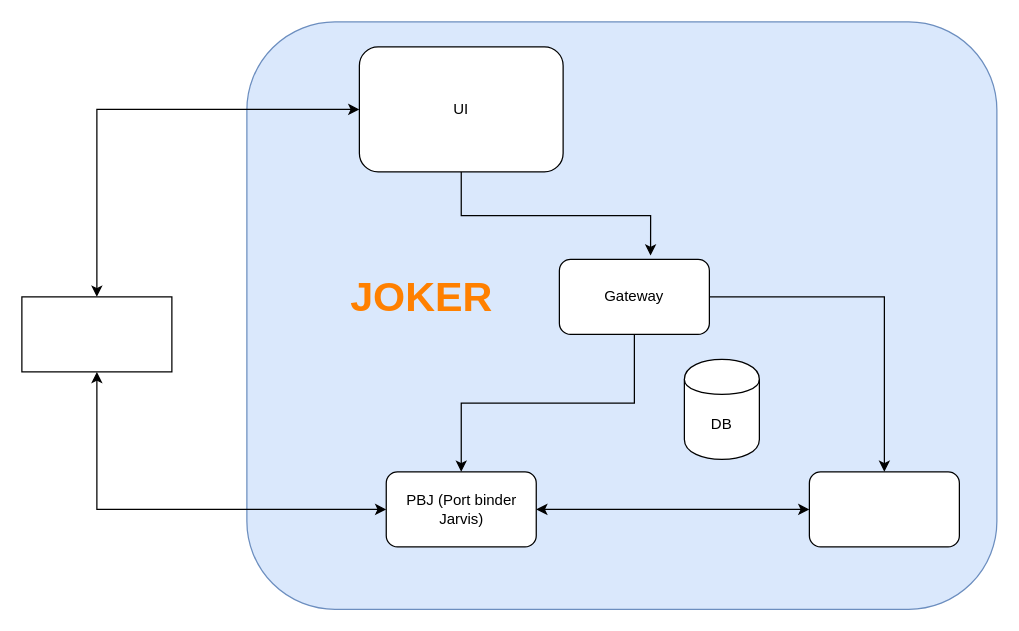
This 1019x631 diagram has some shape labels left out. Here are the shapes that lost their labels. From the top down, the centre of each, then its label:
At [96,334]: "Developer Application".
At [883,509]: "Wayne".
